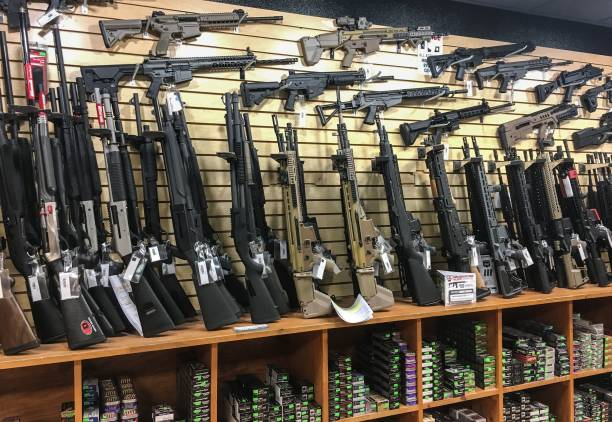rifle: (152, 97, 242, 330), (329, 122, 398, 323), (222, 96, 283, 320), (269, 118, 332, 322), (78, 47, 293, 97), (298, 10, 439, 71), (99, 7, 288, 45), (243, 65, 395, 111), (317, 90, 478, 117), (494, 103, 582, 149), (473, 57, 585, 92), (426, 41, 544, 74), (401, 105, 515, 134), (532, 64, 605, 100)
